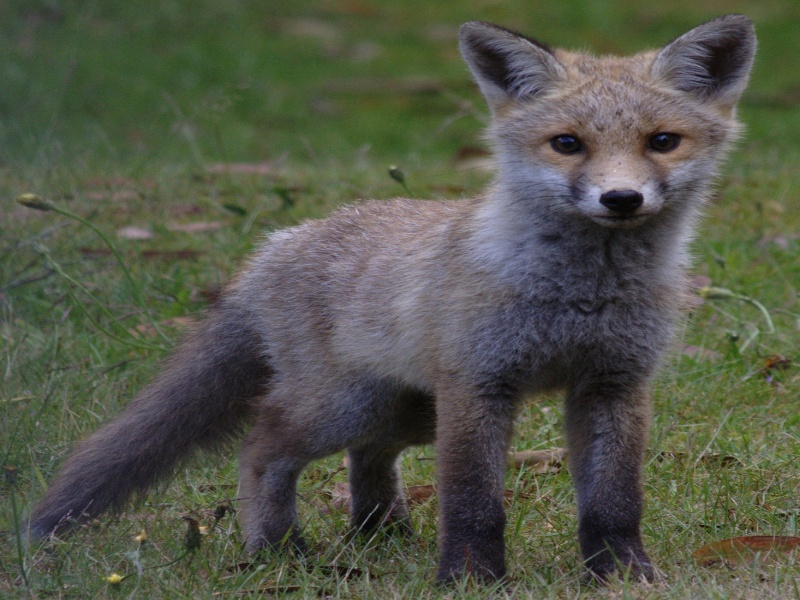fox: (20, 16, 764, 575)
